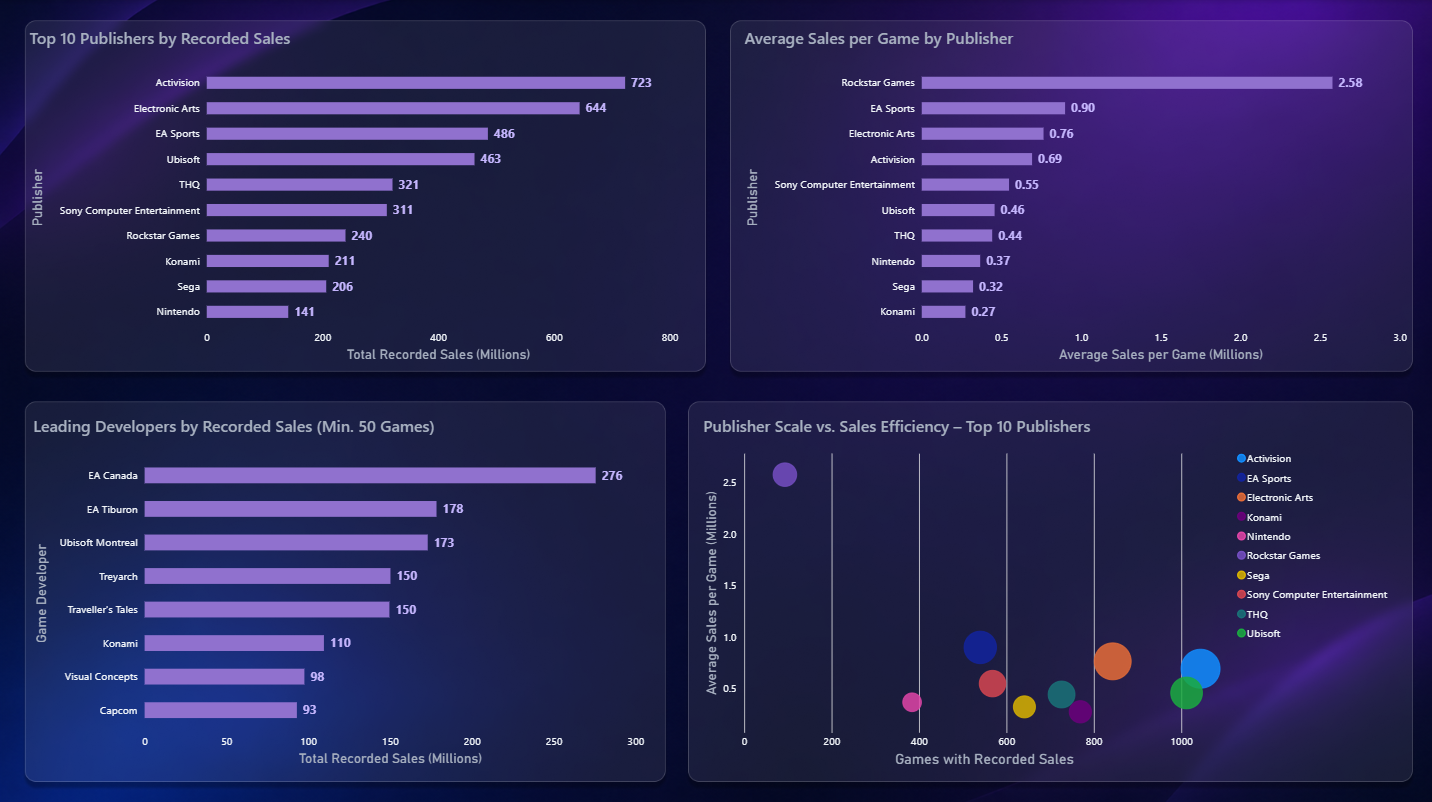

The dashboard page shown, as its layout file describes it:
{"tool":"powerbi","page":{"name":"PUBLISHER  AND DEVELOPER ANALYSIS","canvas":[1920,1080],"ordinal":3},"visuals":[{"type":"clusteredBarChart","title":"Top 10 Publishers by Recorded Sales","fields":{"Category":["Final_Data.publisher"],"Y":["Sum(Final_Data.total_sales)"]},"box":[23.5,21.7,899.4,477.8],"z":0},{"type":"clusteredBarChart","title":"Average Sales per Game by Publisher","fields":{"Category":["Final_Data.publisher"],"Y":["Avg(Final_Data.total_sales)"]},"box":[979,21.7,917.5,477.8],"z":1000},{"type":"clusteredBarChart","title":"Leading Developers by Recorded Sales (Min. 50 Games)","fields":{"Category":["Final_Data.developer"],"Y":["Sum(Final_Data.total_sales)"]},"box":[29,539.3,848.7,499.5],"z":2000},{"type":"scatterChart","title":"Publisher Scale vs. Sales Efficiency – Top 10 Publishers","fields":{"Series":["Final_Data.publisher"],"Size":["Final_Data.Total Recorded Sales"],"X":["Final_Data.Publisher Games Count"],"Y":["Final_Data.Average Sales per Game"]},"box":[922.9,539.3,955.1,500.2],"z":3000}]}

Visuals, with their boxes in screenshot pixels (x1, y1, x2, y2), scaled from the page's 1920x1080 canvas onto the 1432x802 screenshot:
"Top 10 Publishers by Recorded Sales" clusteredBarChart: bbox=[18, 16, 688, 371]
"Average Sales per Game by Publisher" clusteredBarChart: bbox=[730, 16, 1414, 371]
"Leading Developers by Recorded Sales (Min. 50 Games)" clusteredBarChart: bbox=[22, 400, 655, 771]
"Publisher Scale vs. Sales Efficiency – Top 10 Publishers" scatterChart: bbox=[688, 400, 1401, 772]
